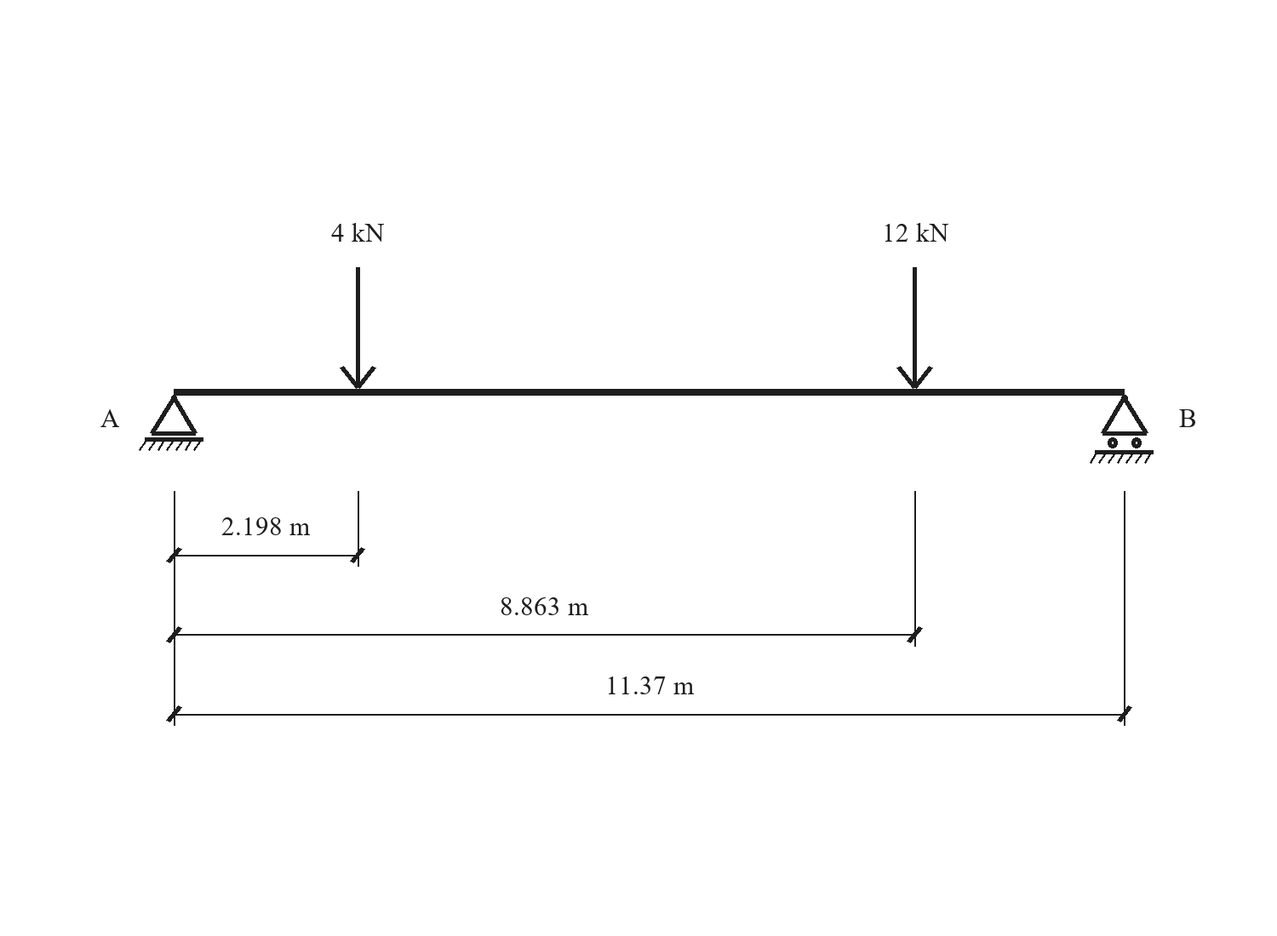pin_support: (139, 395, 203, 451)
point_load: (896, 267, 933, 389), (340, 267, 376, 389)
roller_support: (1090, 395, 1154, 464)
